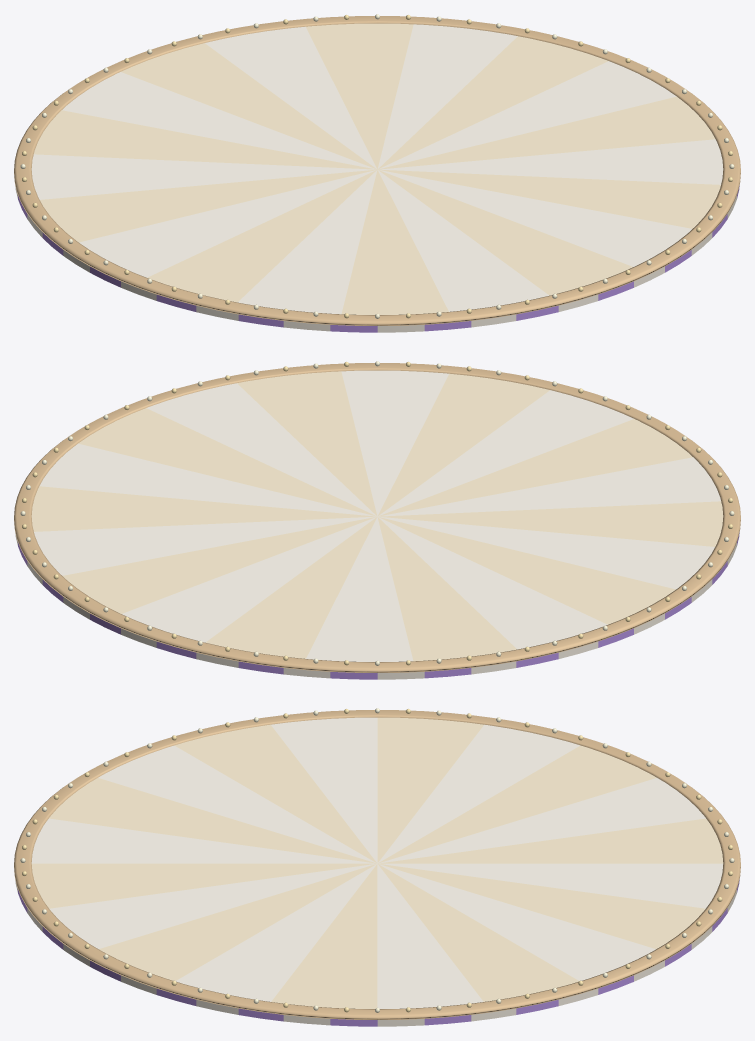
The model's file is PumpStageDeck.glb.
The picture shows the model from 3 angles, top to bottom: view 1: azimuth 30°, elevation 25°; view 2: azimuth 150°, elevation 25°; view 3: azimuth 270°, elevation 25°; orthographic projection.
Parts seen in each view (by area): view 1: DeckA, DeckB, Lip, SkirtA, SkirtB, BulbsB, BulbsA; view 2: DeckB, DeckA, Lip, SkirtA, SkirtB, BulbsB, BulbsA; view 3: DeckA, DeckB, Lip, SkirtA, SkirtB, BulbsB, BulbsA.
Part boxes in pixels (box(x1,y1,x2,y2)): DeckA: box(31, 24, 723, 314); DeckB: box(34, 23, 720, 314); Lip: box(14, 16, 740, 325); SkirtA: box(18, 186, 739, 332); SkirtB: box(15, 186, 736, 332); BulbsB: box(22, 15, 732, 318); BulbsA: box(20, 14, 734, 318); DeckB: box(31, 371, 723, 661); DeckA: box(34, 370, 720, 661); Lip: box(14, 363, 740, 672); SkirtA: box(18, 533, 739, 679); SkirtB: box(15, 533, 736, 679); BulbsB: box(22, 362, 732, 665); BulbsA: box(20, 361, 734, 665); DeckA: box(31, 717, 723, 1008); DeckB: box(31, 717, 723, 1008); Lip: box(14, 710, 740, 1019); SkirtA: box(18, 880, 739, 1026); SkirtB: box(15, 880, 736, 1026); BulbsB: box(22, 709, 732, 1012); BulbsA: box(20, 708, 734, 1012).
Bounding box in the file's own units: 80.1 × 1.86 × 80.1.
